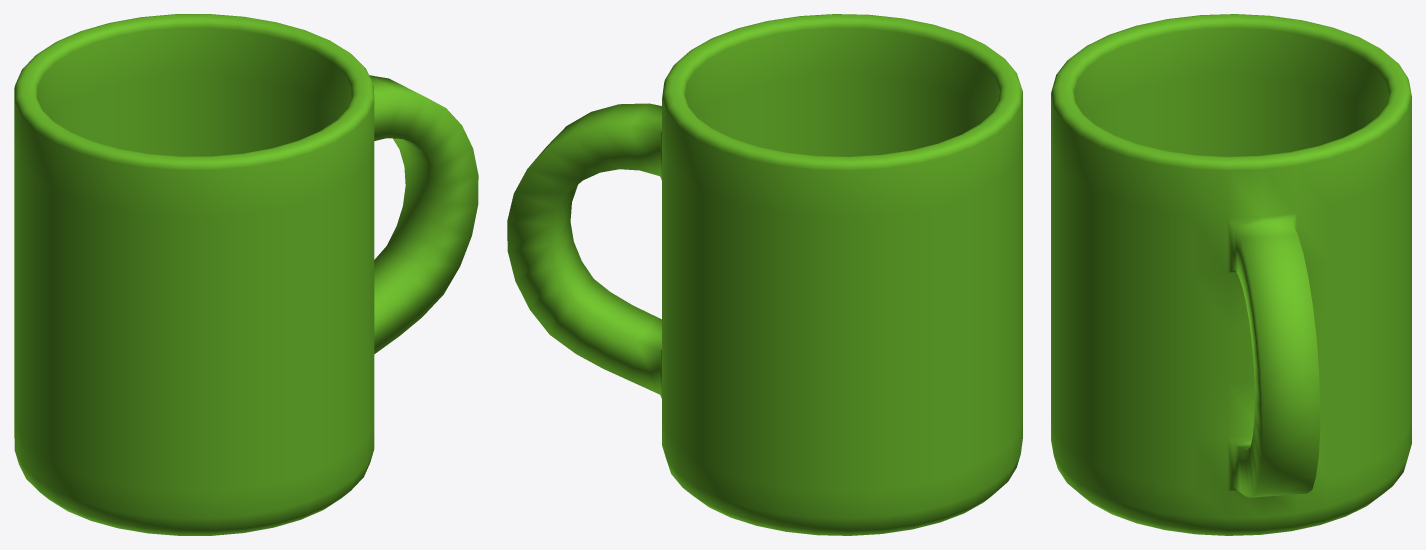
The model's file is cup.glb.
3 renders of one model, left to right at view 1: azimuth 30°, elevation 25°; view 2: azimuth 150°, elevation 25°; view 3: azimuth 270°, elevation 25°, orthographic.
Parts seen in each view (by area): view 1: Circle.046; view 2: Circle.046; view 3: Circle.046.
Boxes of the visible parts, box(x1,y1,x2,y2) form: Circle.046: box(14, 14, 478, 535); Circle.046: box(507, 14, 1022, 535); Circle.046: box(1051, 14, 1411, 535).
Size of the model in its own units: 0.2074 by 0.1661 by 0.1421.
